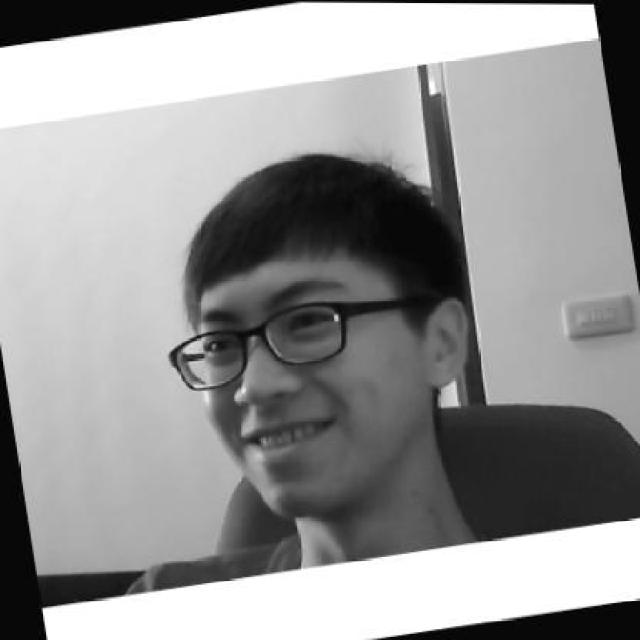attentif: (142, 134, 492, 532)
